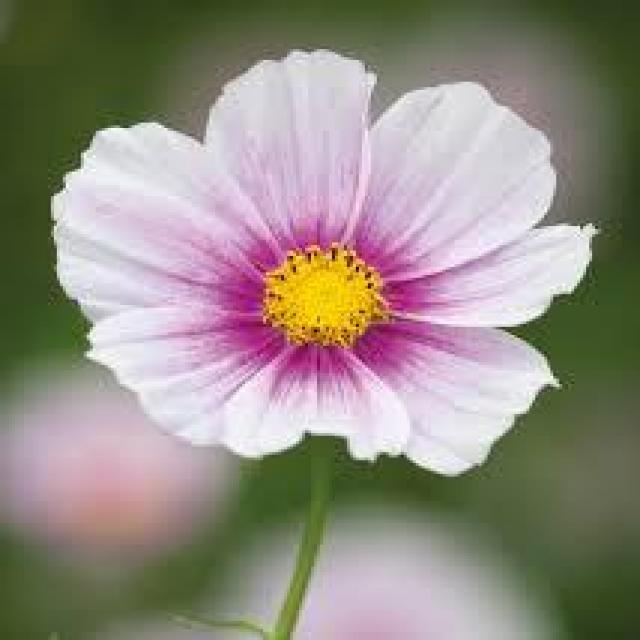organic waste: (40, 51, 597, 476)
